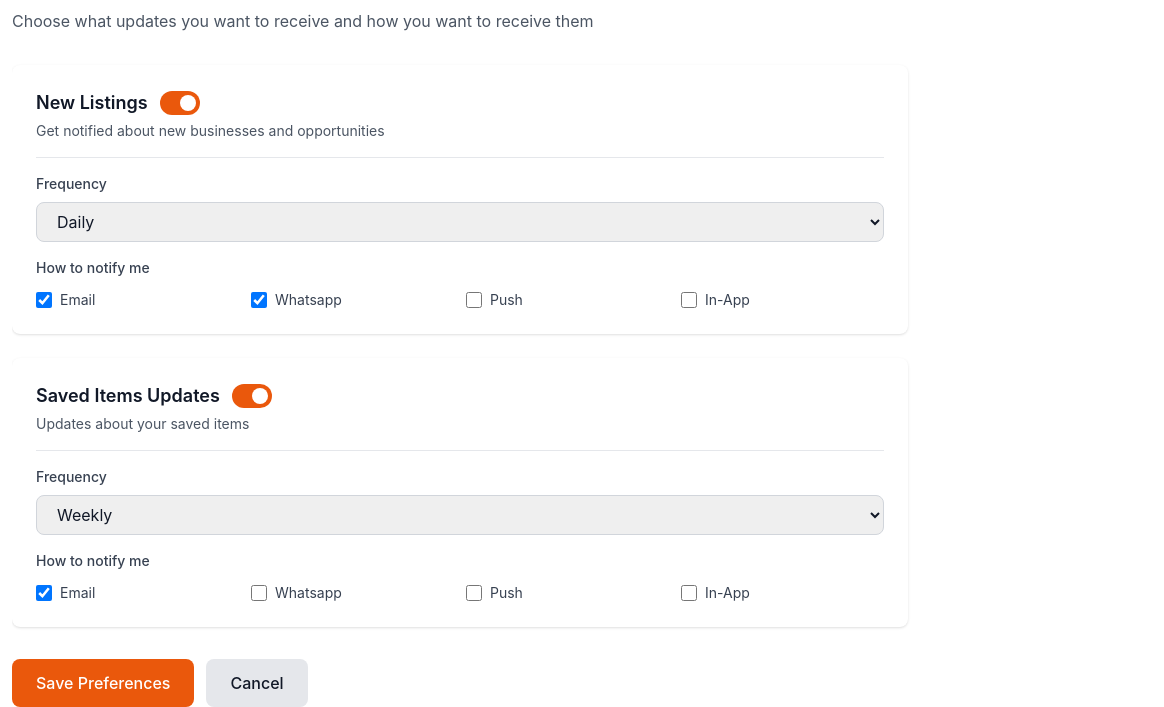
Test: Notifications Page › should display success message after save
(page scrolled)
Click the button "Save Preferences": [103, 683] box [12,659,194,706]
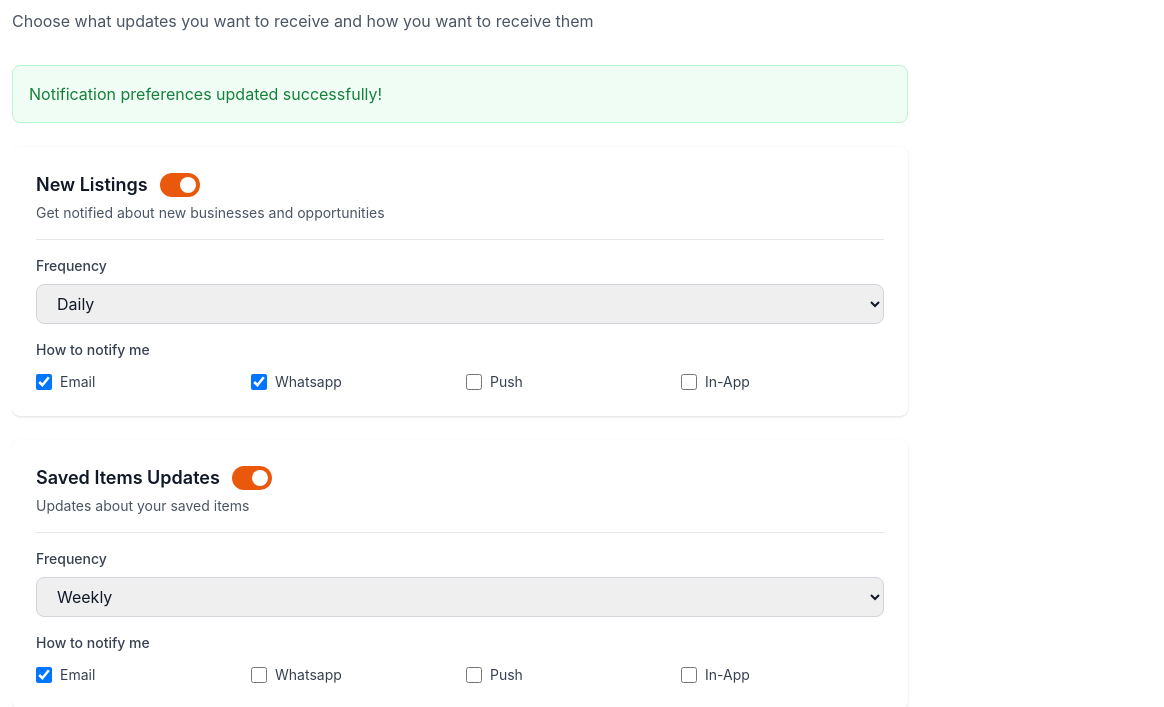
Result: the text "Notification preferences updated successfully!" is shown at [12,65,908,123]
